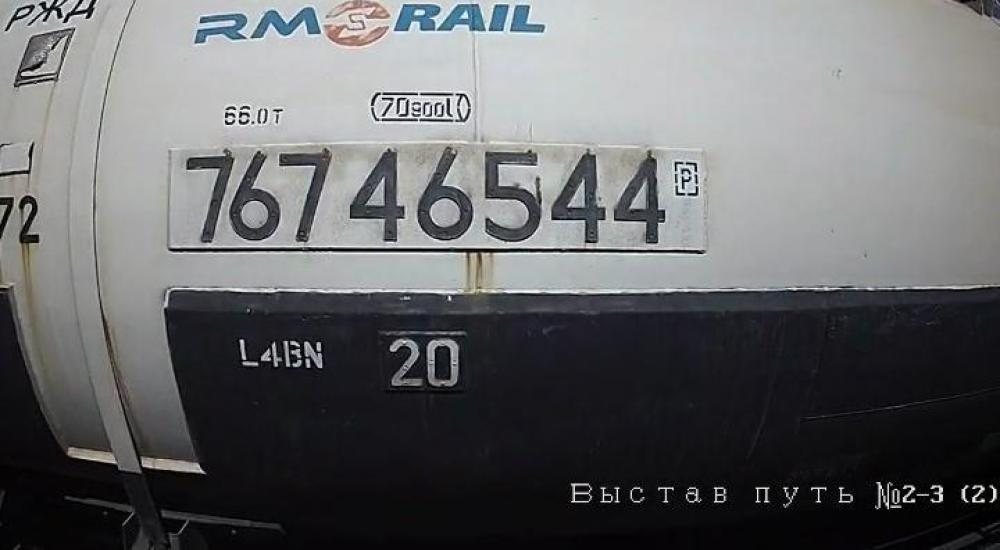Wagon-number: (180, 143, 674, 248)
